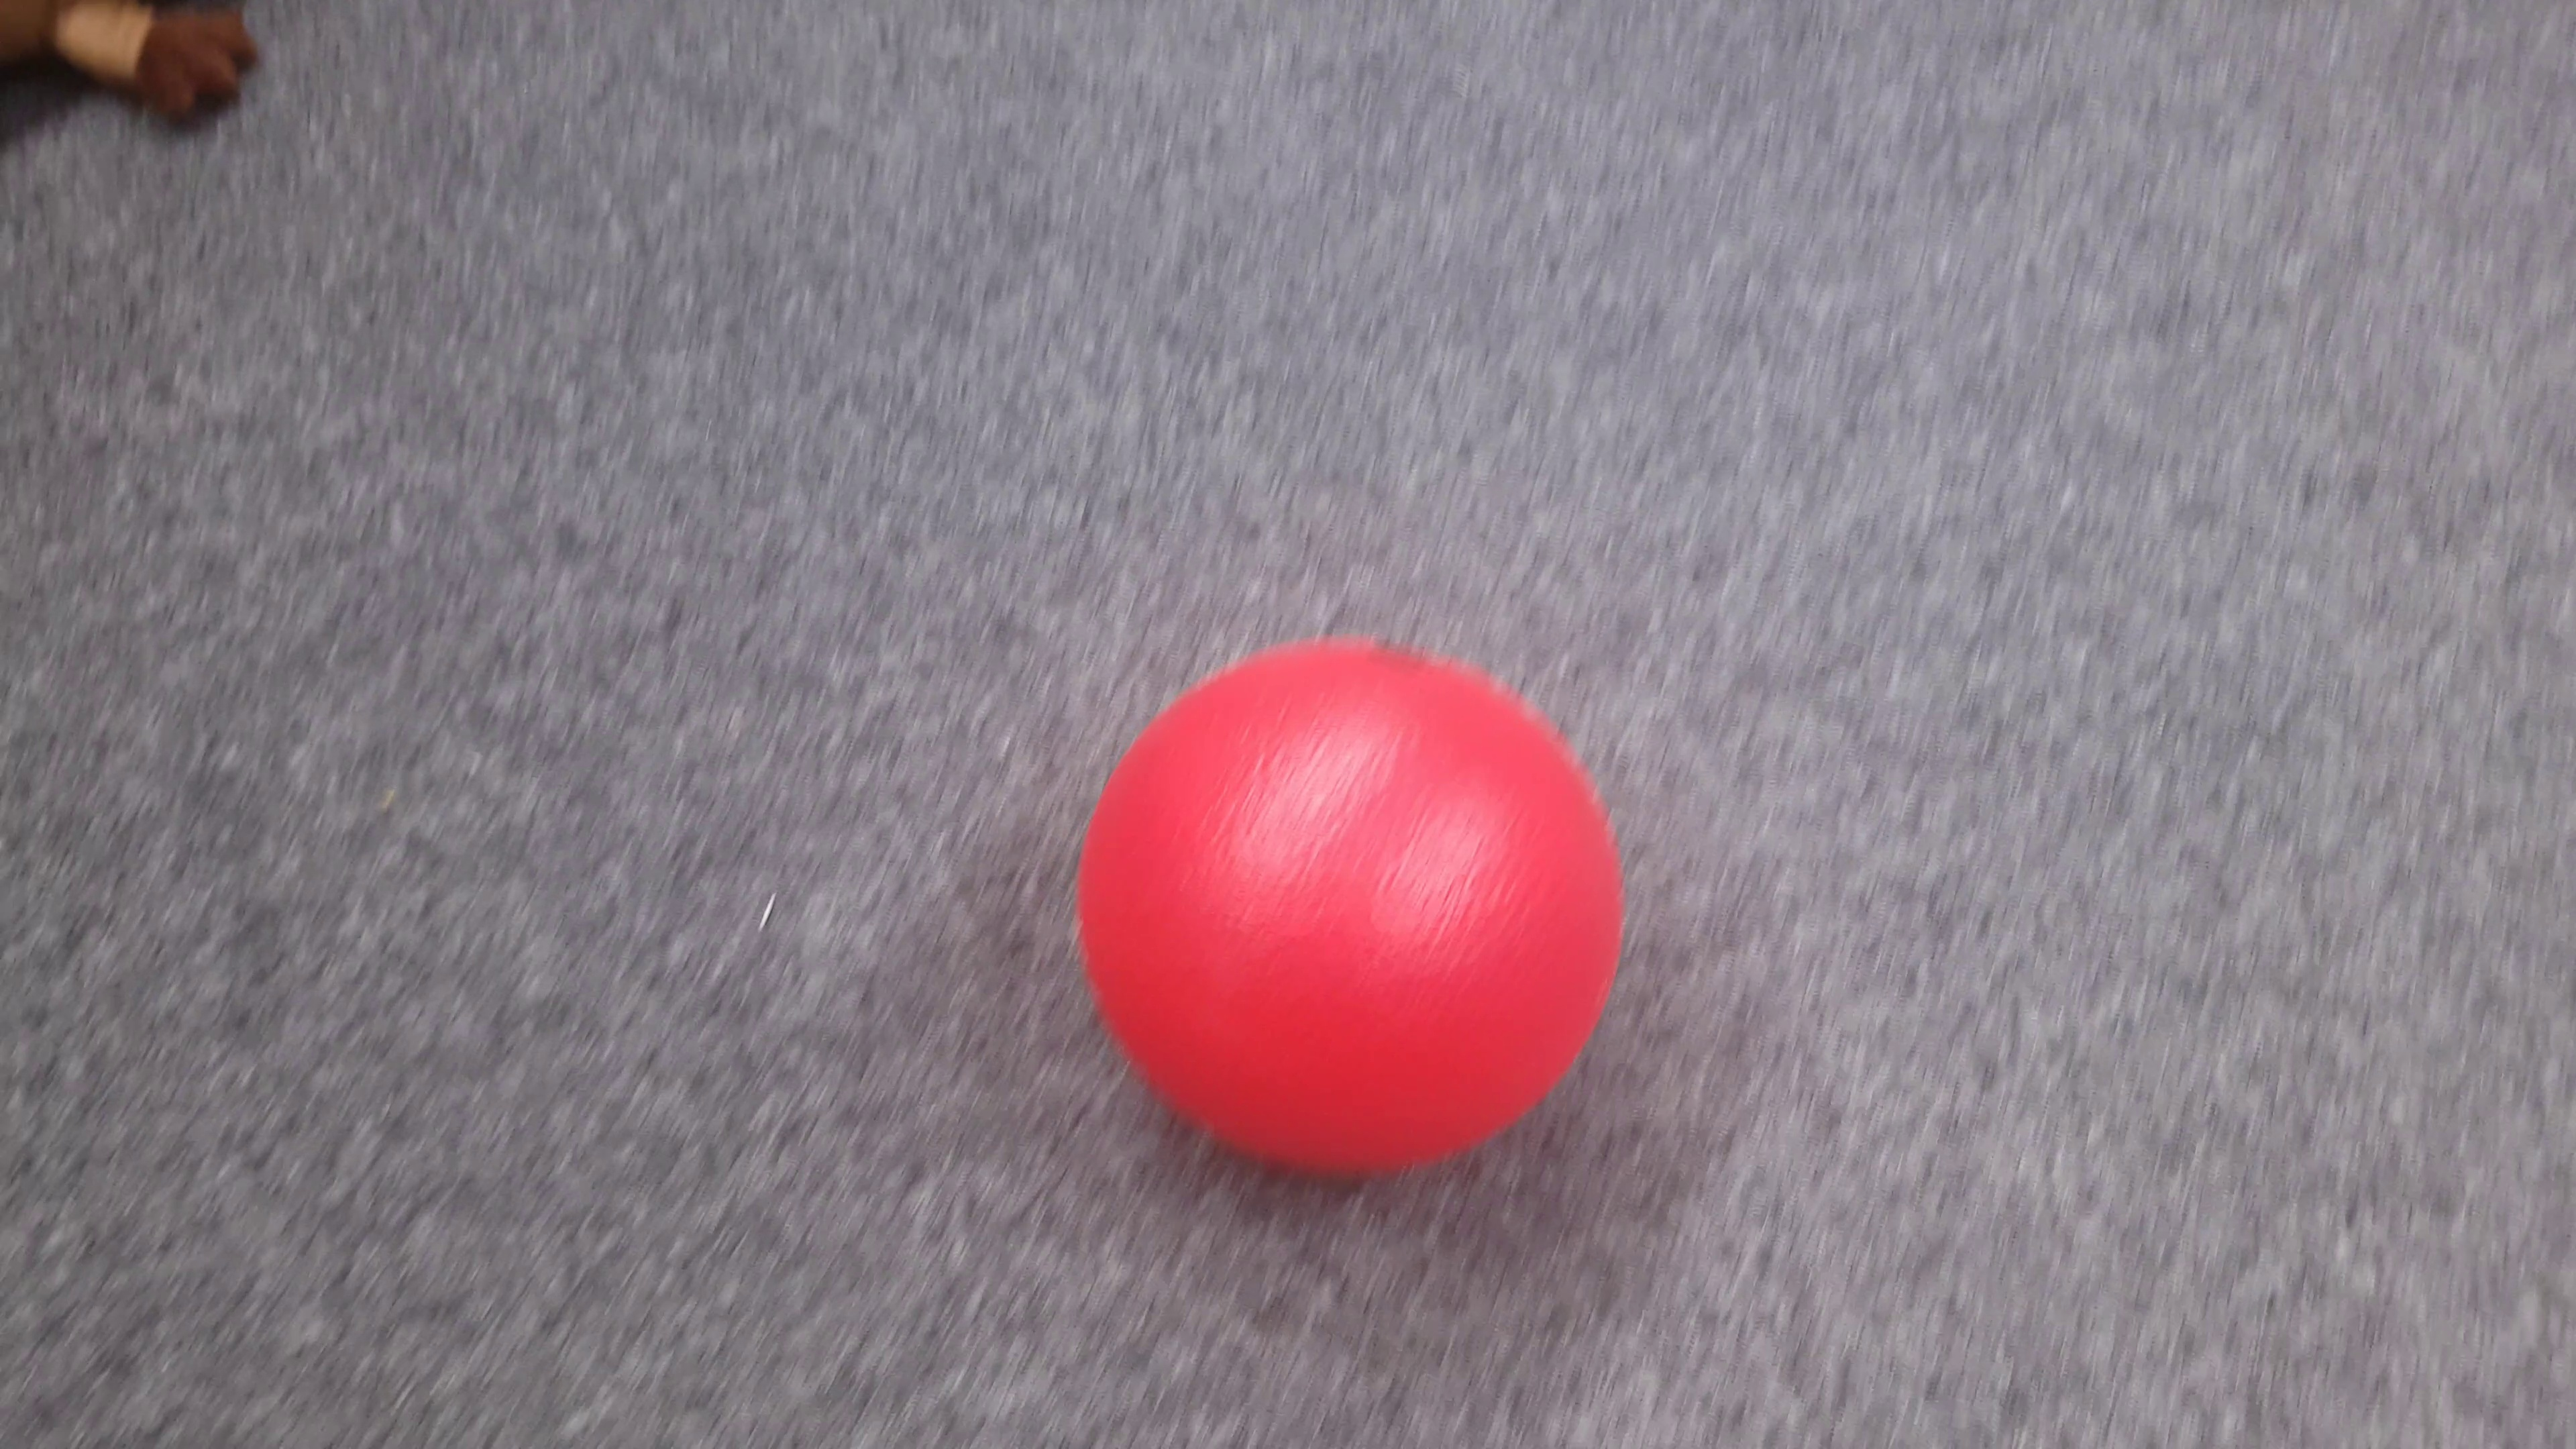kick: (1083, 640, 1633, 1169)
